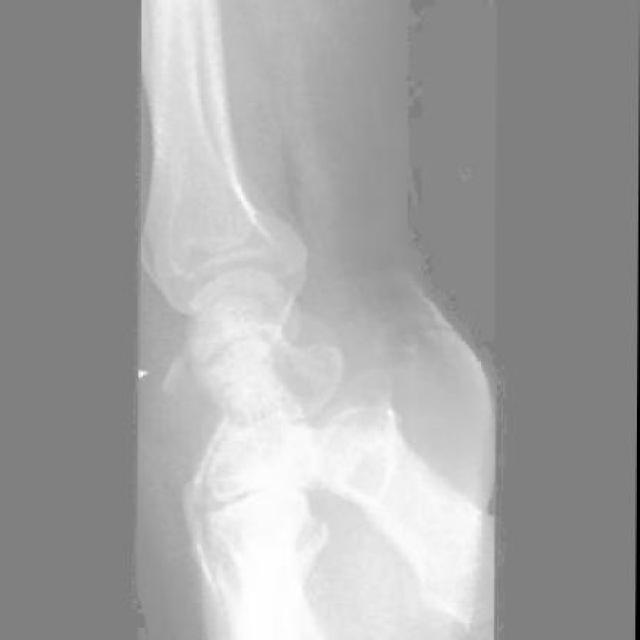Fracture: (155, 337, 210, 413)
